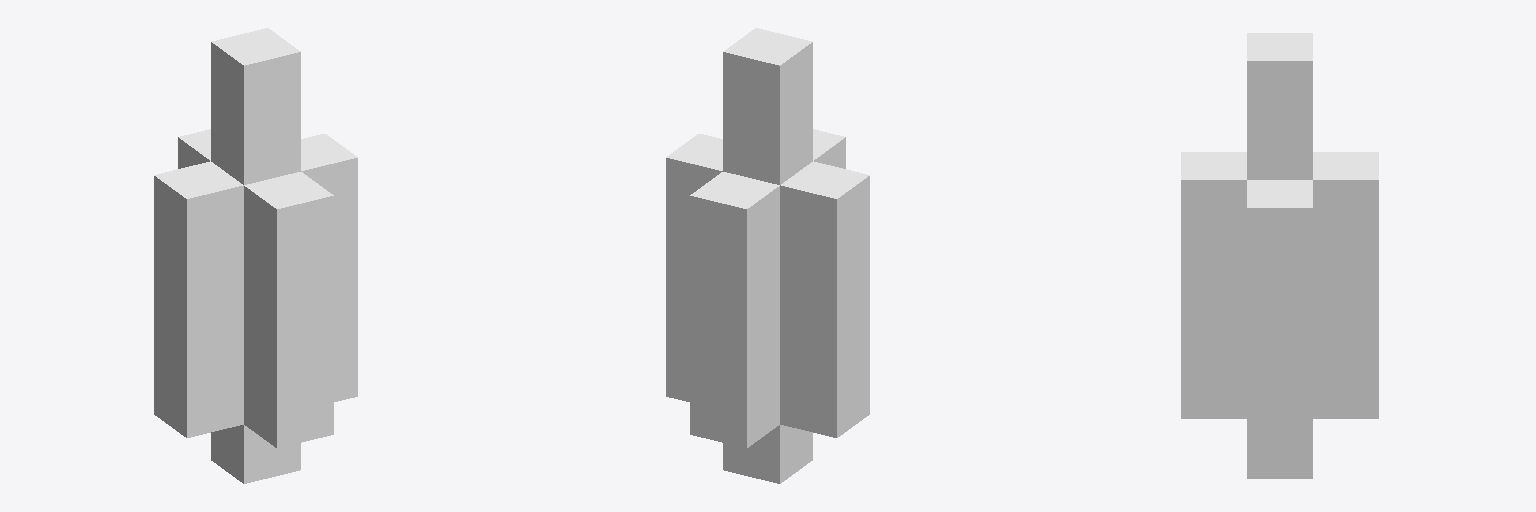
The model's file is Items-2.obj.
3 renders of one model, left to right at view 1: azimuth 30°, elevation 25°; view 2: azimuth 150°, elevation 25°; view 3: azimuth 270°, elevation 25°, orthographic.
Visible parts, largest first — view 1: object 1; view 2: object 1; view 3: object 1.
Part boxes in pixels (left/top/right/bottom): object 1: left=154, top=28, right=357, bottom=483; object 1: left=666, top=28, right=869, bottom=483; object 1: left=1181, top=33, right=1378, bottom=478.
Bounding box in the file's own units: 0.3 × 0.7 × 0.3.